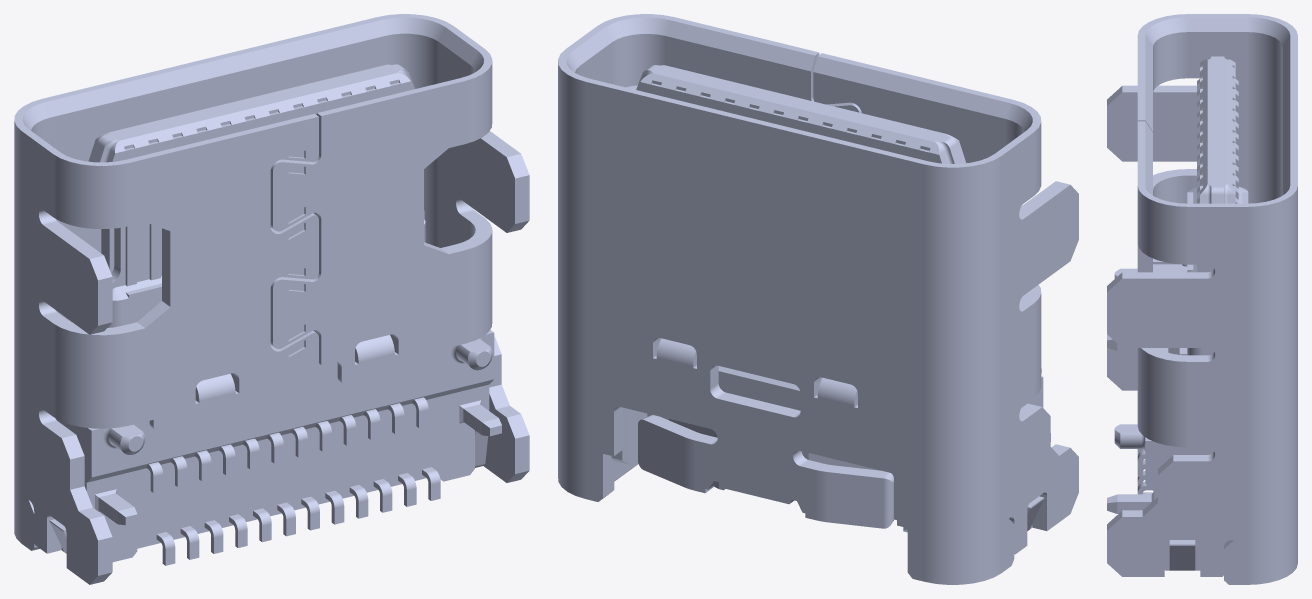
3 renders of one model, left to right at view 1: azimuth 30°, elevation 25°; view 2: azimuth 150°, elevation 25°; view 3: azimuth 270°, elevation 25°, orthographic. The views are drawn at different scales.
Parts seen in each view (by area): view 1: DX07S024JJ3R1300; view 2: DX07S024JJ3R1300; view 3: DX07S024JJ3R1300.
Boxes of the visible parts, box(x1,y1,x2,y2) form: DX07S024JJ3R1300: box(14, 14, 529, 584); DX07S024JJ3R1300: box(558, 14, 1078, 584); DX07S024JJ3R1300: box(1107, 14, 1297, 584).
Size of the model in its own units: 0.00894 by 0.00817 by 0.00374.
